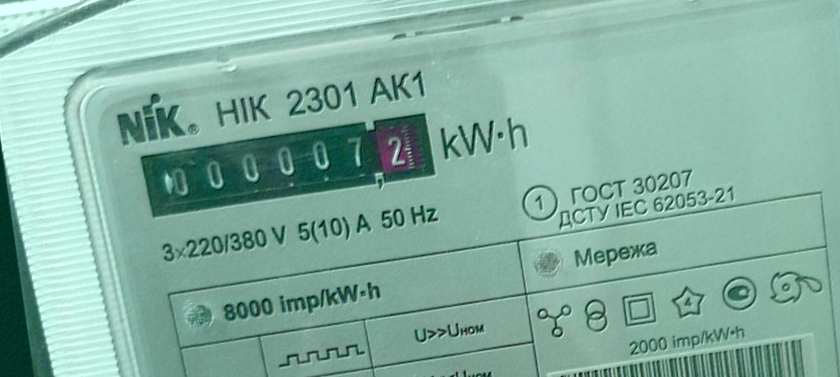0: (236, 148, 264, 189), (307, 136, 333, 175), (167, 163, 193, 201), (274, 143, 299, 182), (203, 156, 228, 193)
2: (383, 132, 409, 171)
7: (343, 132, 369, 173)
screen: (134, 105, 446, 227)
